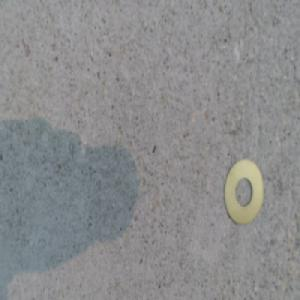Washer: (221, 158, 262, 227)
